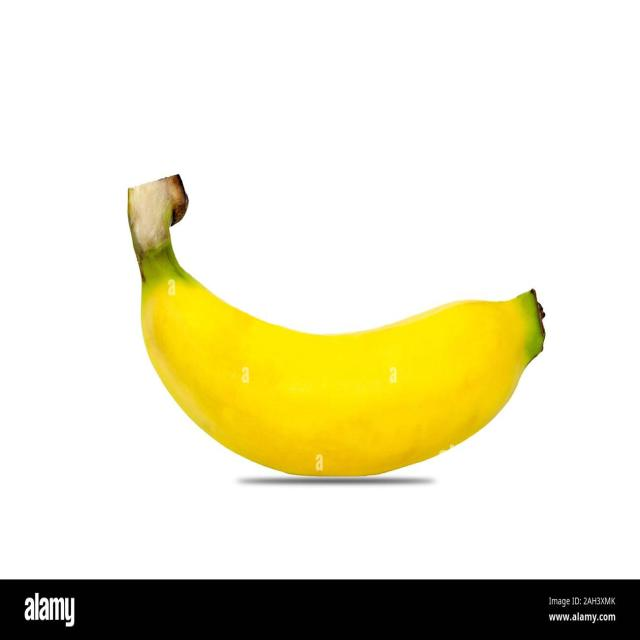non_orange: (122, 168, 553, 479)
